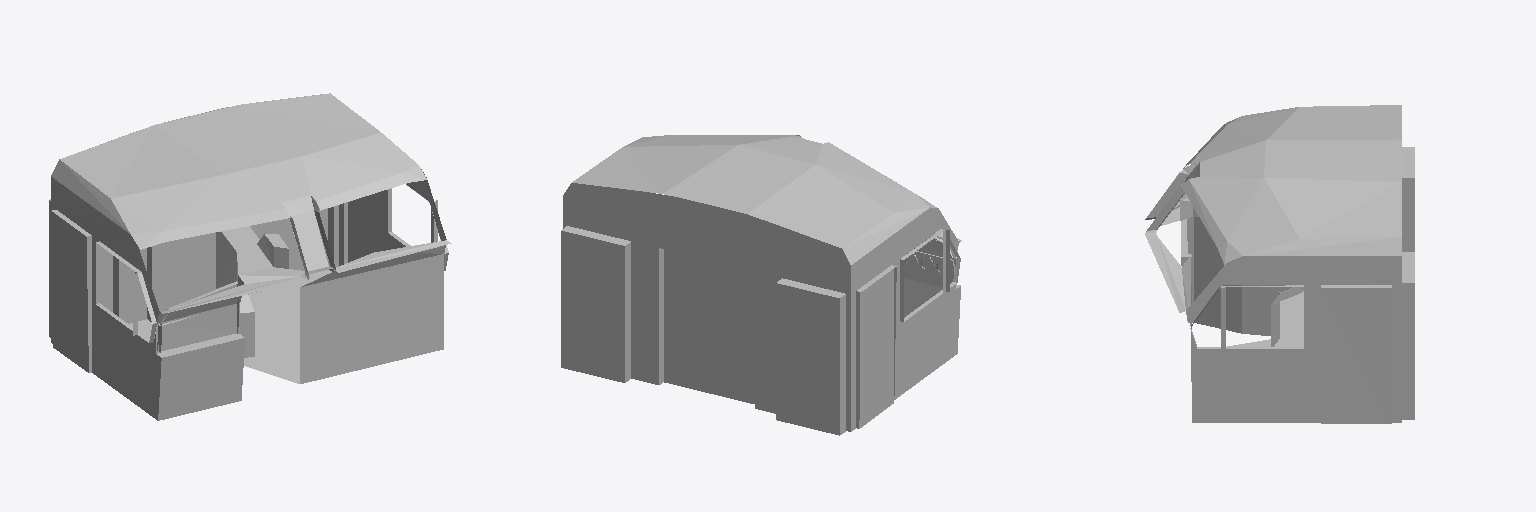
File: cabin.obj
3 views of the same model, side by side, from view 1: azimuth 30°, elevation 25°; view 2: azimuth 150°, elevation 25°; view 3: azimuth 270°, elevation 25° (orthographic).
Visible parts, largest first — view 1: cabin.001_Plane.006_Plane.004; view 2: cabin.001_Plane.006_Plane.004; view 3: cabin.001_Plane.006_Plane.004.
Boxes of the visible parts, box(x1,y1,x2,y2) form: cabin.001_Plane.006_Plane.004: box(49, 93, 451, 420); cabin.001_Plane.006_Plane.004: box(561, 135, 961, 435); cabin.001_Plane.006_Plane.004: box(1145, 105, 1414, 423).
Size of the model in its own units: 12.6 by 7.61 by 9.66.